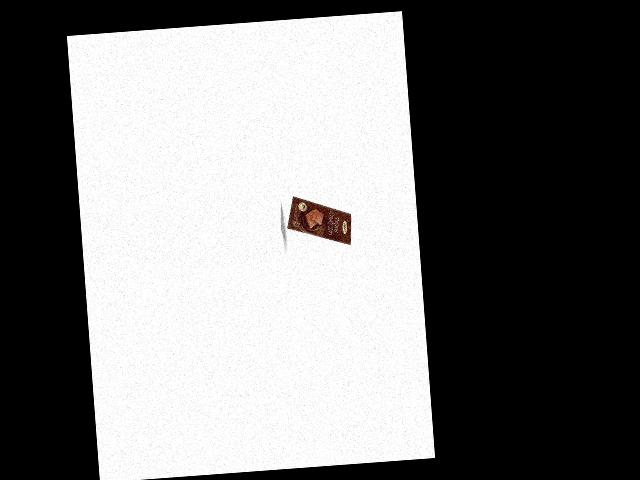chocolate: (281, 190, 354, 250)
